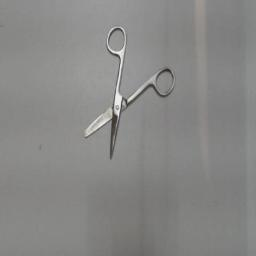Dressing Scissors: (75, 21, 179, 169)
